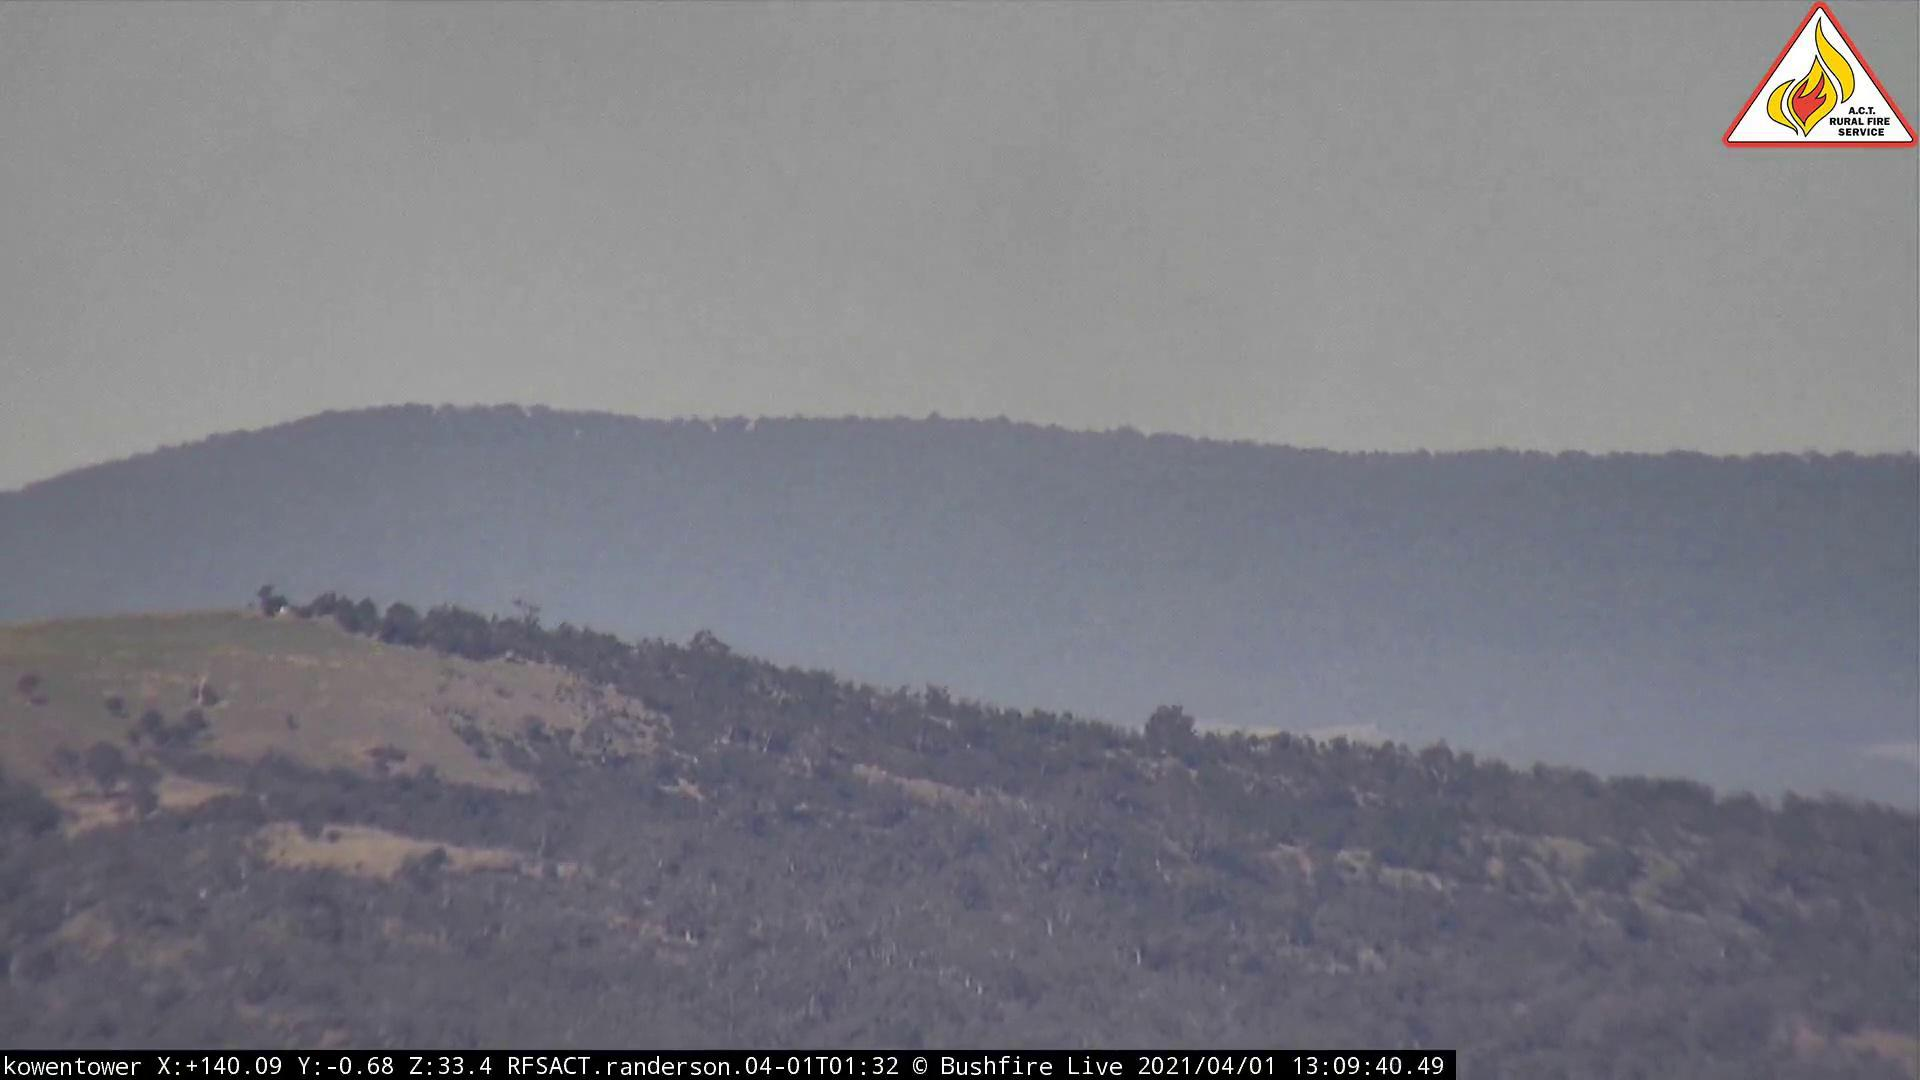instance_salient_object: (858, 138, 1381, 550)
